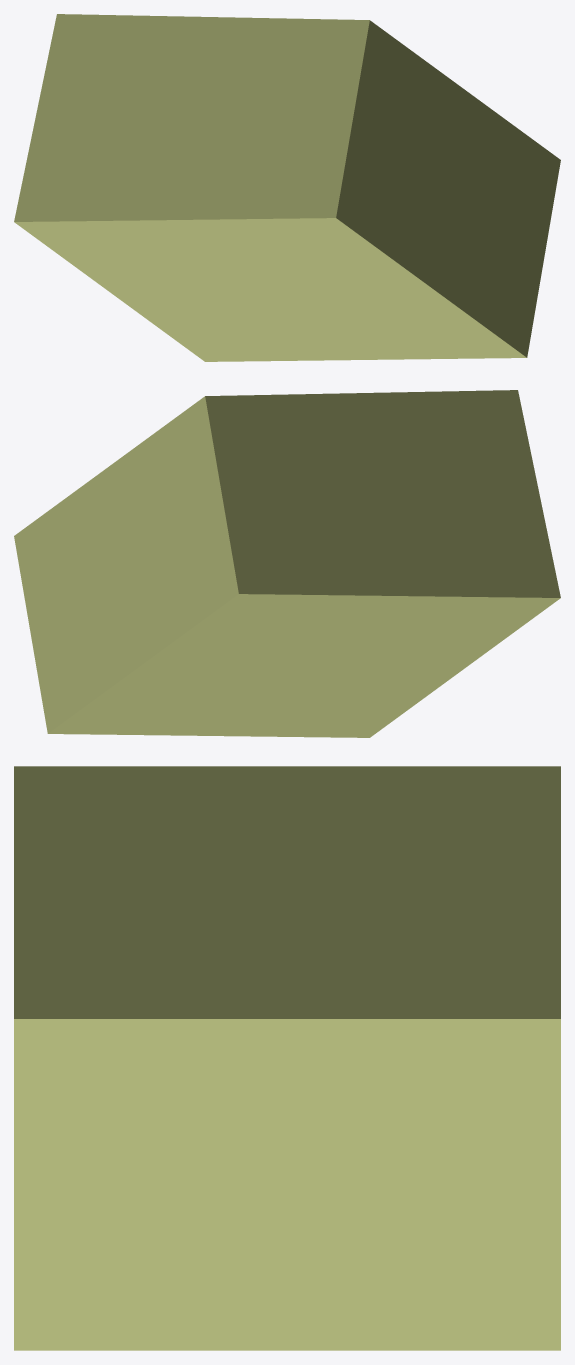
The picture shows the model from 3 angles, top to bottom: view 1: azimuth 30°, elevation 25°; view 2: azimuth 150°, elevation 25°; view 3: azimuth 270°, elevation 25°; orthographic projection. The views are drawn at different scales.
Visible parts, largest first — view 1: 0_1_1_3_3_1_0_2_2_0_0; view 2: 0_1_1_3_3_1_0_2_2_0_0; view 3: 0_1_1_3_3_1_0_2_2_0_0.
Part boxes in pixels (box(x1,y1,x2,y2)): 0_1_1_3_3_1_0_2_2_0_0: box(14, 14, 560, 361); 0_1_1_3_3_1_0_2_2_0_0: box(14, 390, 560, 737); 0_1_1_3_3_1_0_2_2_0_0: box(14, 766, 560, 1350).
Size of the model in its own units: 9.67 by 7.07 by 9.
